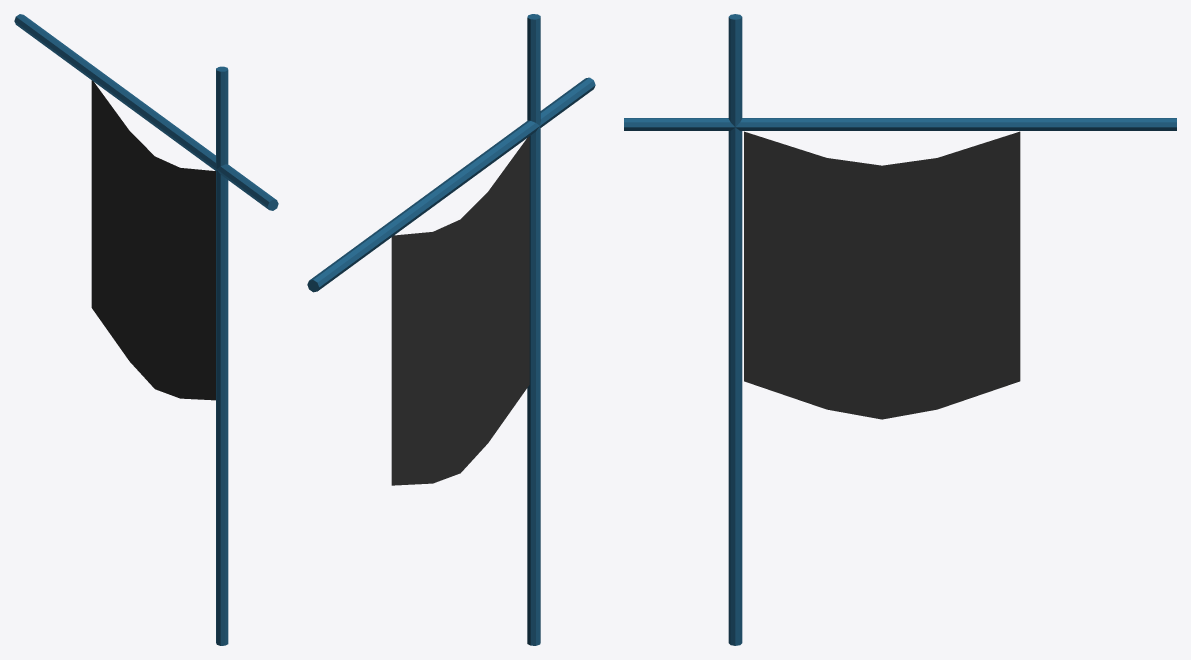
Rendered from Flag.fbx.
3 views of the same model, side by side, from view 1: azimuth 30°, elevation 25°; view 2: azimuth 150°, elevation 25°; view 3: azimuth 270°, elevation 25° (orthographic). The views are drawn at different scales.
Visible parts, largest first — view 1: Plane, Stick_Long, Stick_Short; view 2: Plane, Stick_Long, Stick_Short; view 3: Plane, Stick_Long, Stick_Short.
Boxes of the visible parts, x1,y1,x2,y2 form: Plane: [91, 80, 215, 400]; Stick_Long: [216, 66, 228, 645]; Stick_Short: [14, 14, 278, 210]; Plane: [391, 136, 529, 485]; Stick_Long: [527, 14, 540, 645]; Stick_Short: [307, 77, 595, 292]; Plane: [744, 131, 1020, 419]; Stick_Long: [728, 14, 742, 645]; Stick_Short: [624, 118, 1176, 130].
Bounding box in the file's own units: 1 × 50 × 40.
